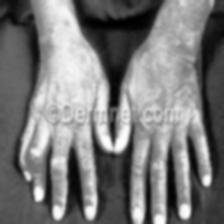Toxin: (172, 52, 194, 90), (22, 142, 44, 176), (176, 143, 188, 163)
